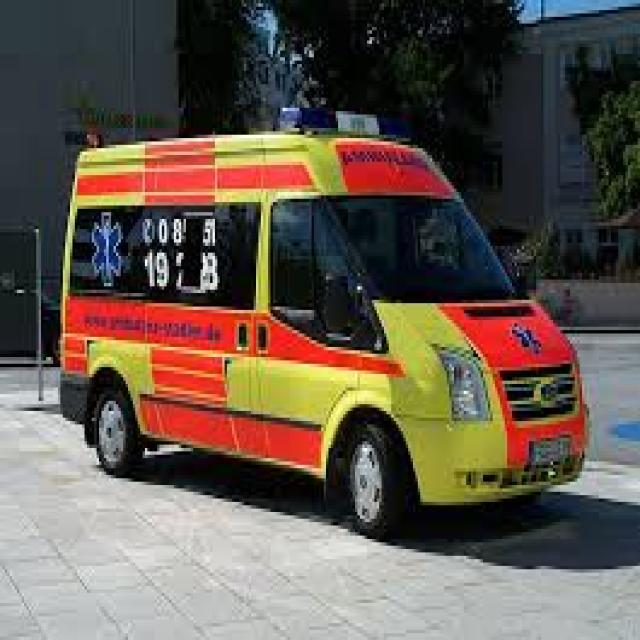Ambulance: (56, 101, 589, 539)
